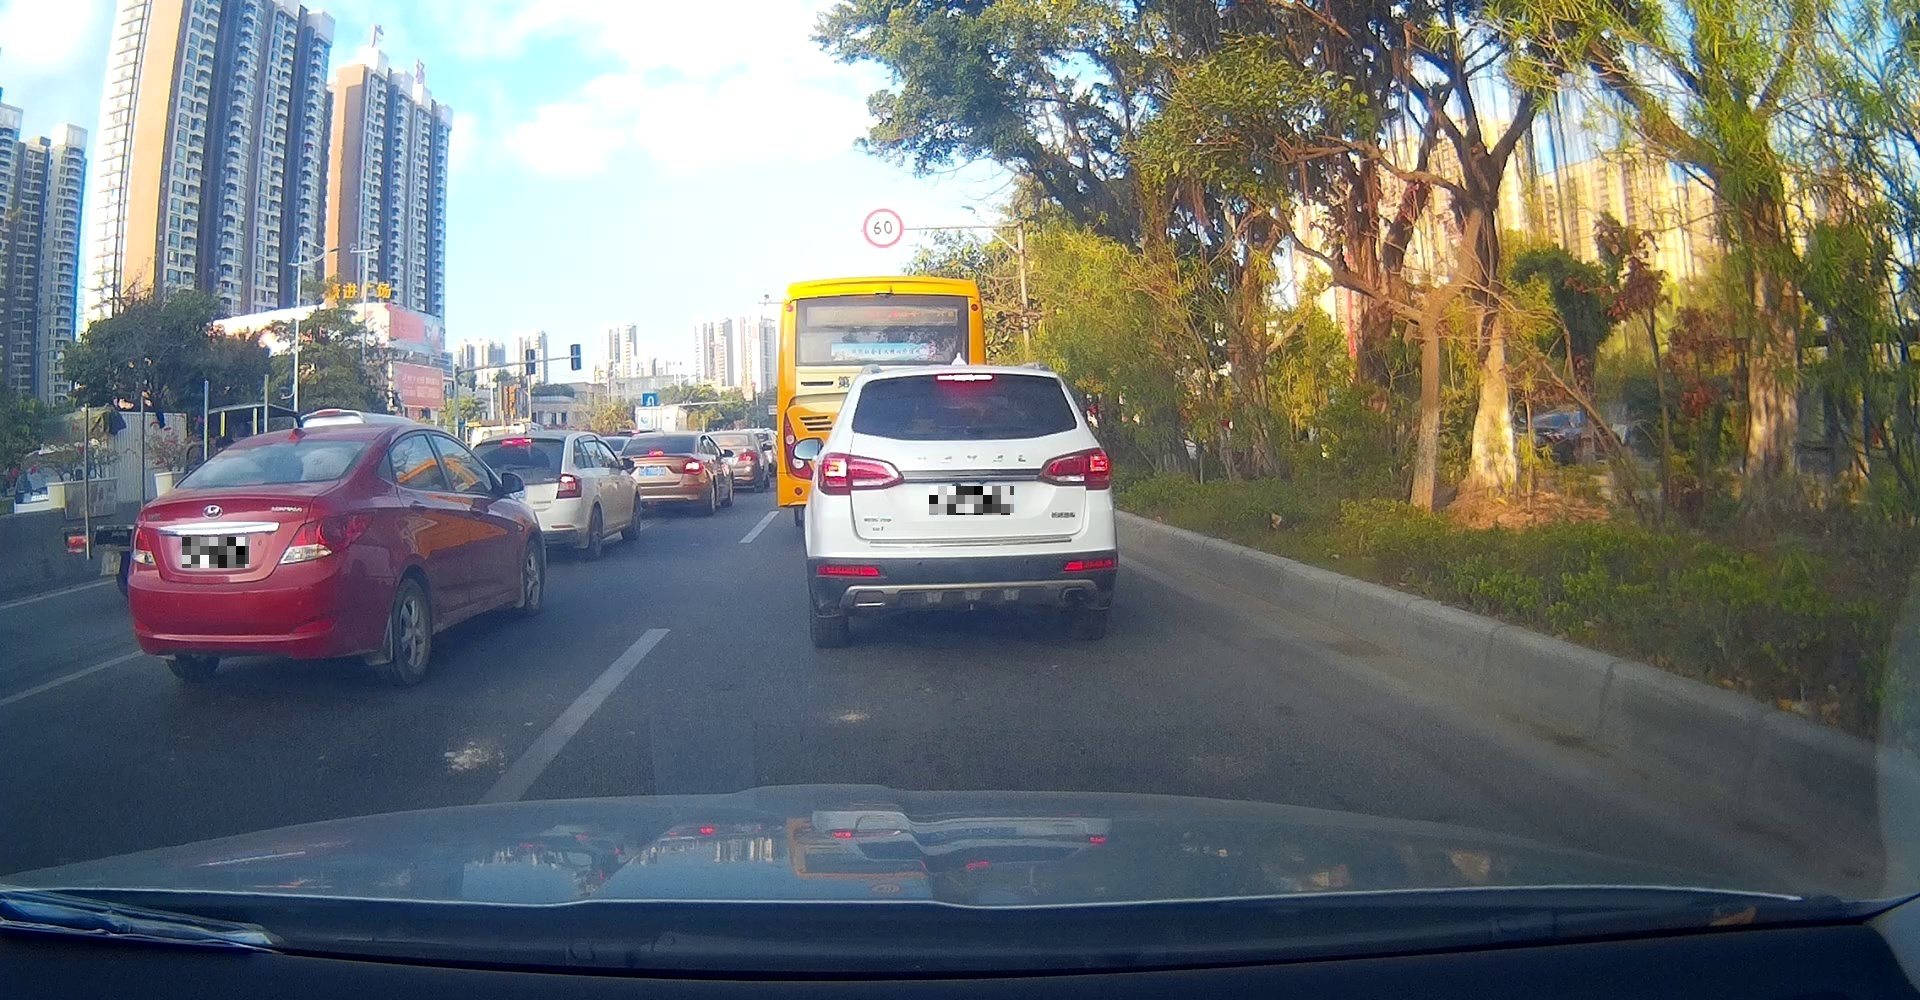L_light: (817, 452, 905, 497), (130, 524, 157, 566)
R_light: (276, 511, 375, 566), (1036, 447, 1111, 491)
T_light: (937, 374, 993, 381), (225, 480, 267, 487)
day-brake: (803, 363, 1119, 648)
day-no: (127, 423, 377, 690)
plate_1: (182, 537, 249, 569)
plate_2: (930, 486, 1015, 515)
